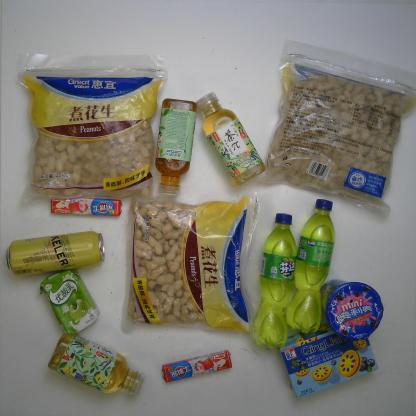Alcohol: (6, 230, 105, 276)
Candy: (162, 350, 232, 382), (51, 197, 122, 216)
Dessert: (278, 322, 379, 398), (320, 279, 384, 341)
Dried Food: (252, 36, 415, 218), (17, 52, 168, 203), (122, 190, 262, 338)
Drink: (286, 198, 335, 334), (196, 92, 266, 185), (48, 333, 146, 396), (252, 213, 297, 349), (155, 98, 197, 196)
Milk: (39, 269, 100, 336)
